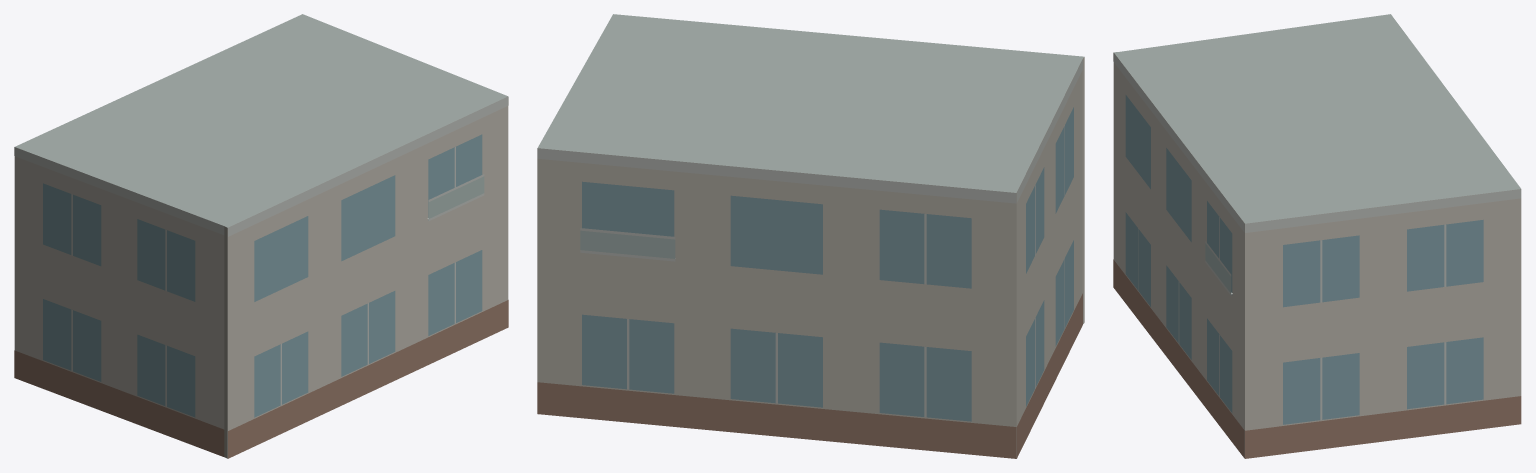
File: survey-upis-32622729.glb
3 views of the same model, side by side, from view 1: azimuth 30°, elevation 25°; view 2: azimuth 150°, elevation 25°; view 3: azimuth 270°, elevation 25° (orthographic). The views are drawn at different scales.
Parts seen in each view (by area): view 1: survey-upis-32622729.tmp; view 2: survey-upis-32622729.tmp; view 3: survey-upis-32622729.tmp.
Boxes of the visible parts, left/top/right/bottom form: survey-upis-32622729.tmp: left=14, top=14, right=508, bottom=458; survey-upis-32622729.tmp: left=537, top=14, right=1084, bottom=458; survey-upis-32622729.tmp: left=1113, top=14, right=1521, bottom=458.
Size of the model in its own units: 11.68 by 6.1 by 9.6.
